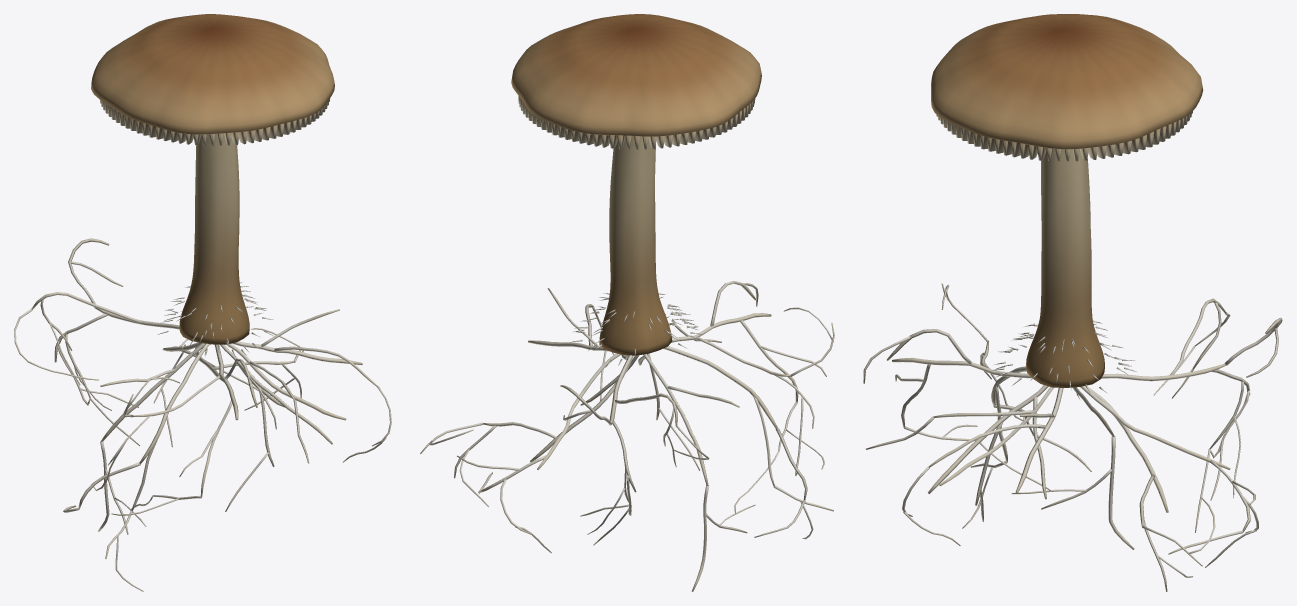
File: fungus.glb
The picture shows the model from 3 angles, left to right: view 1: azimuth 30°, elevation 25°; view 2: azimuth 150°, elevation 25°; view 3: azimuth 270°, elevation 25°; orthographic projection. The views are drawn at different scales.
Visible parts, largest first — view 1: fungus; view 2: fungus; view 3: fungus.
Boxes of the visible parts, x1,y1,x2,y2 form: fungus: [14, 14, 391, 591]; fungus: [420, 14, 834, 591]; fungus: [863, 14, 1282, 591].
Bounding box in the file's own units: 1.06 × 1.69 × 1.14.
